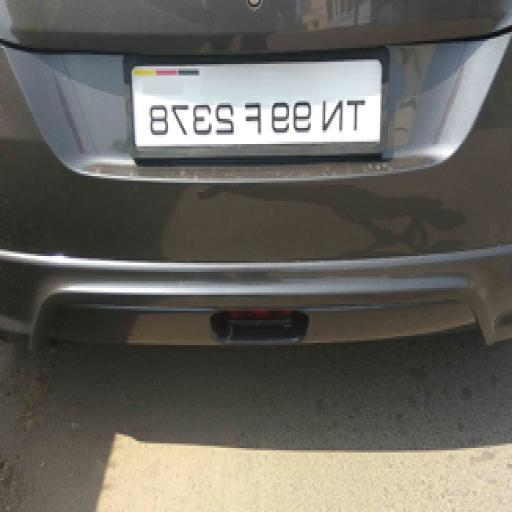License: (134, 55, 383, 144)
